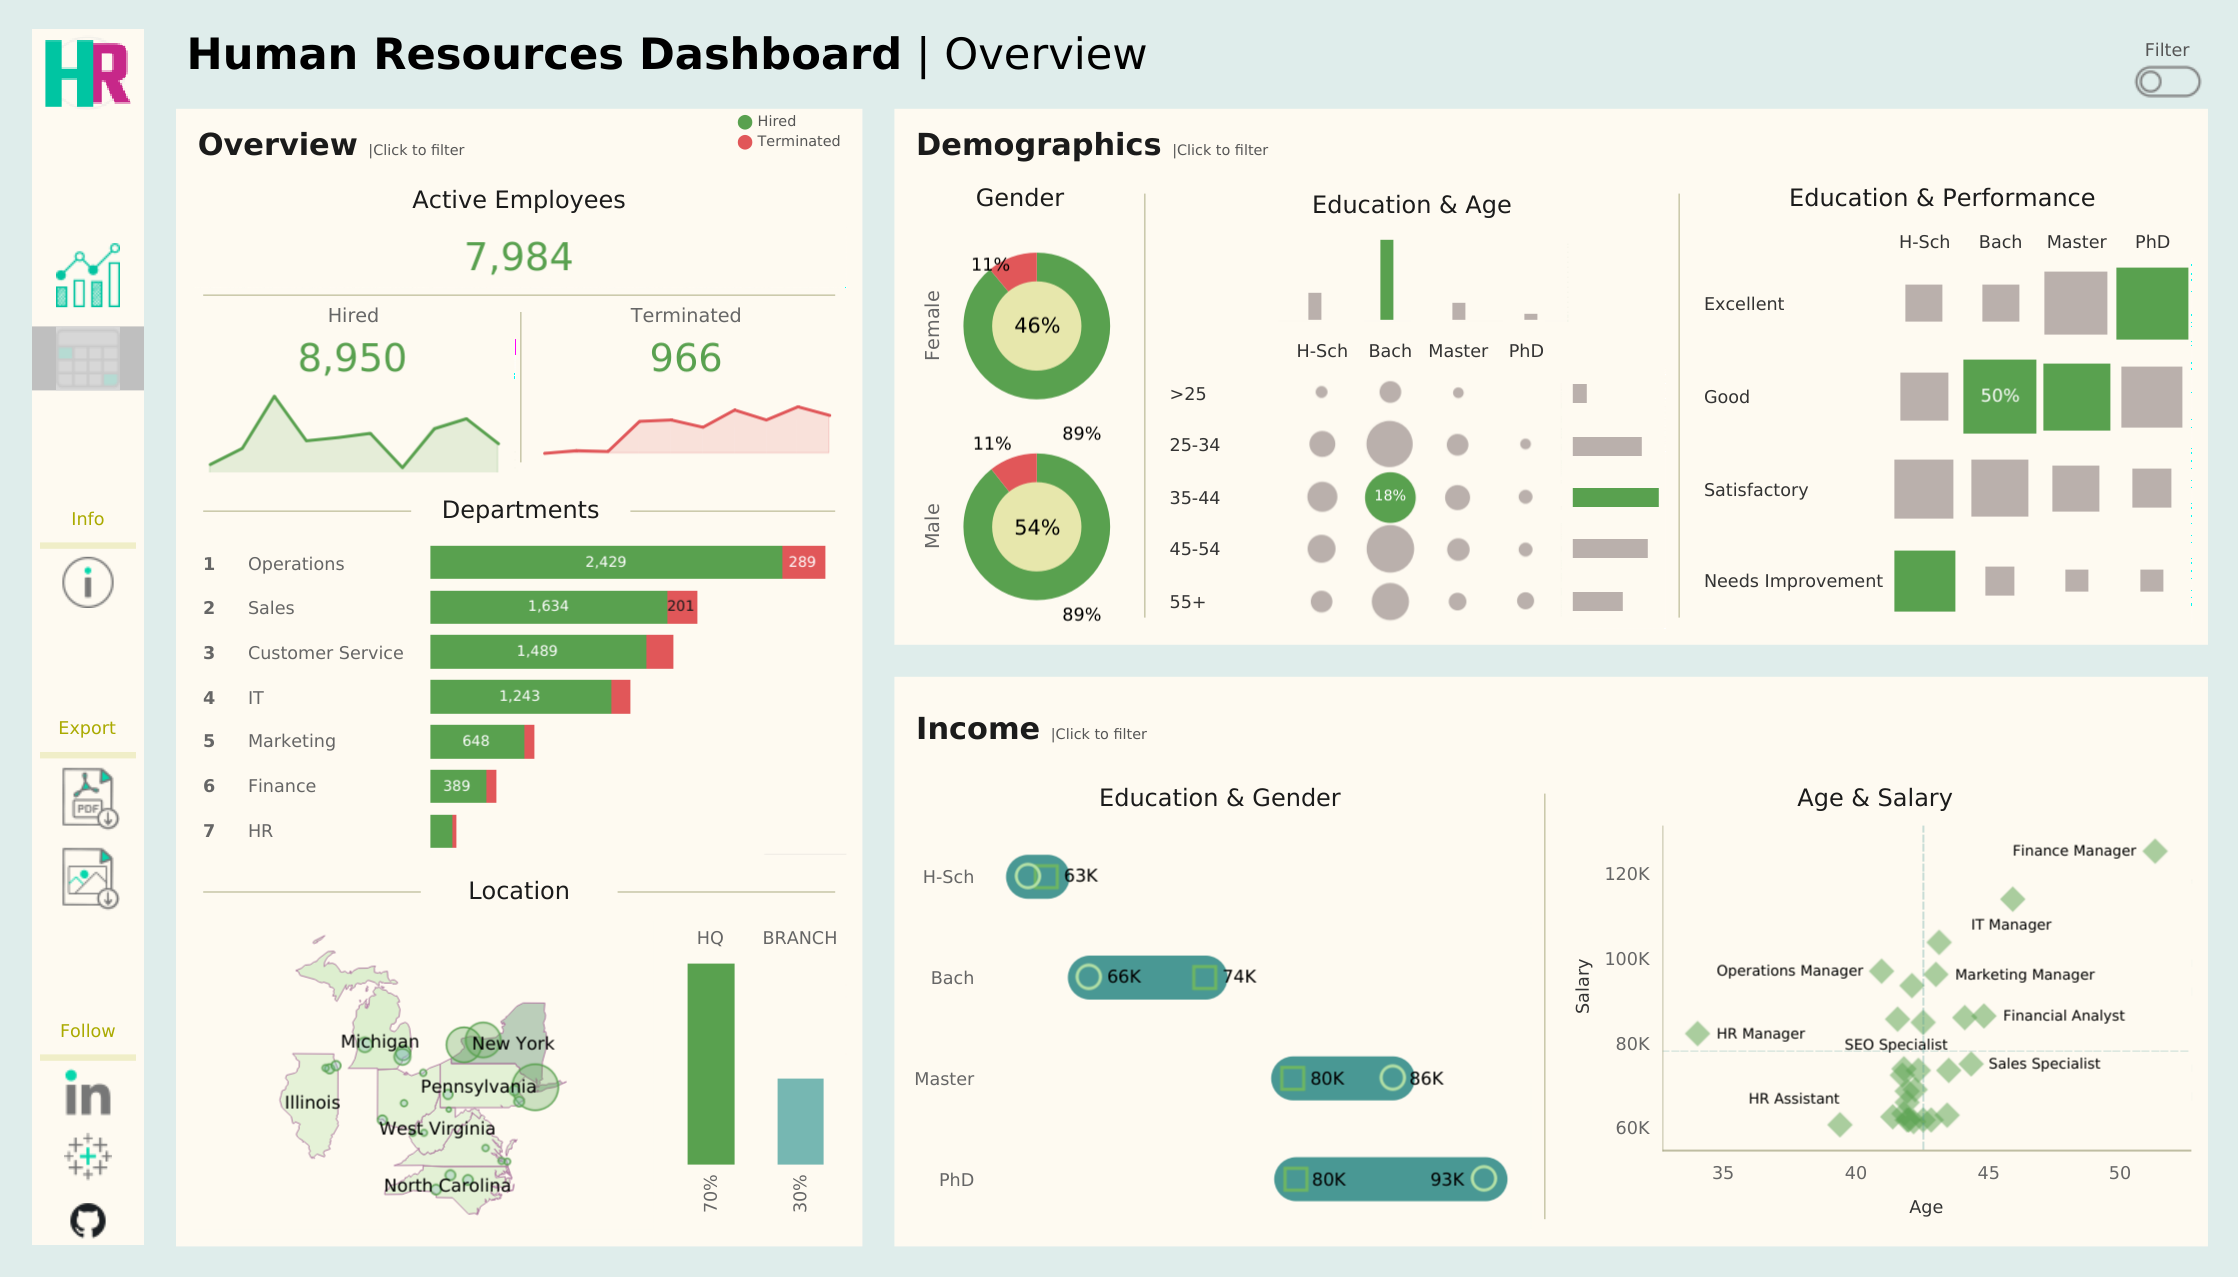

The page's visual inventory and layout, read from the dashboard file:
{"tool":"tableau","page":{"name":"HR | Summary","canvas":[1400,800],"ordinal":0},"visuals":[{"type":"blank","box":[90,0,1313,241]},{"type":"filter","title":"Gender vs Education Level","param":"[federated.1tz5cqf0n7bg761ccbsql13com06].[none:Gender:nk]","box":[718,9,149,52]},{"type":"filter","title":"Gender vs Education Level","param":"[federated.1tz5cqf0n7bg761ccbsql13com06].[none:Calculation_0848314004742148:nk]","box":[867,9,149,52]},{"type":"filter","title":"Gender vs Education Level","param":"[federated.1tz5cqf0n7bg761ccbsql13com06].[none:Calculation_1148479962927109:nk]","box":[1016,9,149,52]},{"type":"filter","title":"Gender vs Education Level","param":"[federated.1tz5cqf0n7bg761ccbsql13com06].[yr:Hiredate:ok]","box":[1165,9,148,52]},{"type":"image","param":"Image/Logo.png","box":[20,18,70,55]},{"type":"text","box":[1326,21,57,19]},{"type":"dashboard-object","box":[1333,30,44,42]},{"type":"text","box":[458,67,75,30]},{"type":"blank","box":[20,73,70,69.5]},{"type":"text","box":[117,75,415,31]},{"type":"text","box":[566,75,807,31]},{"type":"text","box":[117,106,415,32]},{"type":"text","box":[566,111,144,26]},{"type":"blank","box":[715,111,1,285.5]},{"type":"text","box":[721,111,323,33]},{"type":"blank","box":[1049,111,1,285.5]},{"type":"text","box":[1055,111,318,26]},{"type":"worksheet","title":"Gender","mark":"Pie","rows":["Gender"],"cols":["Calculation_0848313933910017","Calculation_0848313933910017"],"box":[566,137,144,259.5]},{"type":"worksheet","title":"Education vs Performance","mark":"Square","rows":["Performance Rating"],"cols":["Education Level"],"box":[1055,137,318,259.5]},{"type":"worksheet","title":"BAN Active","mark":"Text","box":[117,138,415,46]},{"type":"worksheet","title":"Education Levels","mark":"Bar","rows":["Calculation_1148479949914112"],"cols":["Education Level"],"box":[721,144,323,61]},{"type":"dashboard-object","box":[30,152.5,50,40]},{"type":"blank","box":[117,184,415,1]},{"type":"text","box":[117,185,208,22]},{"type":"blank","box":[325,185,1,114]},{"type":"text","box":[326,185,205.9,22]},{"type":"dashboard-object","box":[20,204.5,70,40]},{"type":"worksheet","title":"Age vs Education","mark":"Circle","rows":["Calculation_0848313936879619"],"cols":["Education Level"],"box":[721,205,258,191.5]},{"type":"worksheet","title":"Age Groups","mark":"Bar","rows":["Calculation_0848313936879619"],"cols":["Calculation_1148479949914112"],"box":[979,205,65,191.5]},{"type":"worksheet","title":"BAN Hired","mark":"Text","box":[117,207,208,32]},{"type":"worksheet","title":"BAN Terminated","mark":"Text","box":[326,207,205.9,32]},{"type":"worksheet","title":"Hired By Year","mark":"Automatic","rows":["Calculation_1148479949914112","Calculation_1148479949914112"],"cols":["Hiredate"],"box":[117,239,208,60]},{"type":"worksheet","title":"Terminated By Year","mark":"Automatic","rows":["Calculation_1148479950147585","Calculation_1148479950147585"],"cols":["Termdate"],"box":[326,239,205.9,60]},{"type":"text","box":[90,241,1313,263]},{"type":"blank","box":[20,244.5,70,69.5]},{"type":"blank","box":[127,304,130,30]},{"type":"text","box":[257,304,137,30]},{"type":"blank","box":[394,304,128,30]},{"type":"text","box":[20,314,70,20]},{"type":"blank","box":[20,334,70,14]},{"type":"worksheet","title":"Departments","mark":"Automatic","rows":["Calculation_1148479961632772","Department"],"cols":["Calculation_1148479949914112"],"box":[117,334,415,203]},{"type":"dashboard-object","box":[20,348,70,32]},{"type":"blank","box":[20,380,70,65]},{"type":"text","box":[566,430.5,807,51]},{"type":"text","box":[20,445,70,20]},{"type":"blank","box":[20,465,70,14]},{"type":"dashboard-object","box":[20,479,70,40]},{"type":"text","box":[566,486.5,394,26]},{"type":"blank","box":[965,486.5,1,285.5]},{"type":"text","box":[971,486.5,402,26]},{"type":"worksheet","title":"Gender vs Education Level","mark":"Square","rows":["Education Level"],"cols":["Salary","Salary"],"box":[566,512.5,394,259.5]},{"type":"worksheet","title":"Age vs Salary","mark":"Shape","rows":["Salary"],"cols":["Calculation_0848313936273410"],"box":[971,512.5,402,259.5]},{"type":"blank","box":[20,519,70,10]},{"type":"dashboard-object","box":[20,529,70,40]},{"type":"blank","box":[127,542,135.7,30]},{"type":"text","box":[262.7,542,123.7,30]},{"type":"blank","box":[386.3,542,135.7,30]},{"type":"blank","box":[20,569,70,65]},{"type":"worksheet","title":"Map States","mark":"Automatic","box":[117,572,295,200]},{"type":"worksheet","title":"Location","mark":"Automatic","rows":["Calculation_1148479949914112"],"cols":["Calculation_1148479962927109","Calculation1"],"box":[412,572,120,200]},{"type":"text","box":[20,634,70,20]},{"type":"blank","box":[20,654,70,14]},{"type":"image","param":"Image/contact-linkedin.png","box":[20,668,70,30]},{"type":"blank","box":[20,698,70,10]},{"type":"image","param":"Image/contact-public.png","box":[20,708,70,30]},{"type":"blank","box":[20,738,70,10]},{"type":"image","param":"Image/Octicons-mark-github.svg","box":[20,748,70,30]}]}

Visuals, with their boxes in screenshot pixels (x1, y1, x2, y2), scaled from the page's 1400x800 canvas onto the 2238x1278 screenshot:
blank: [144, 0, 2237, 385]
"Gender vs Education Level" filter: [1148, 14, 1386, 97]
"Gender vs Education Level" filter: [1386, 14, 1624, 97]
"Gender vs Education Level" filter: [1624, 14, 1862, 97]
"Gender vs Education Level" filter: [1862, 14, 2099, 97]
image: [32, 29, 144, 117]
text: [2120, 34, 2211, 64]
dashboard-object: [2131, 48, 2201, 115]
text: [732, 107, 852, 155]
blank: [32, 117, 144, 228]
text: [187, 120, 850, 169]
text: [905, 120, 2195, 169]
text: [187, 169, 850, 220]
text: [905, 177, 1135, 219]
blank: [1143, 177, 1145, 633]
text: [1153, 177, 1669, 230]
blank: [1677, 177, 1678, 633]
text: [1686, 177, 2195, 219]
"Gender" worksheet (Pie marks): [905, 219, 1135, 633]
"Education vs Performance" worksheet (Square marks): [1686, 219, 2195, 633]
"BAN Active" worksheet (Text marks): [187, 220, 850, 294]
"Education Levels" worksheet (Bar marks): [1153, 230, 1669, 327]
dashboard-object: [48, 244, 128, 308]
blank: [187, 294, 850, 296]
text: [187, 296, 520, 331]
blank: [520, 296, 521, 478]
text: [521, 296, 850, 331]
dashboard-object: [32, 327, 144, 391]
"Age vs Education" worksheet (Circle marks): [1153, 327, 1565, 633]
"Age Groups" worksheet (Bar marks): [1565, 327, 1669, 633]
"BAN Hired" worksheet (Text marks): [187, 331, 520, 382]
"BAN Terminated" worksheet (Text marks): [521, 331, 850, 382]
"Hired By Year" worksheet: [187, 382, 520, 478]
"Terminated By Year" worksheet: [521, 382, 850, 478]
text: [144, 385, 2237, 805]
blank: [32, 391, 144, 502]
blank: [203, 486, 411, 534]
text: [411, 486, 630, 534]
blank: [630, 486, 834, 534]
text: [32, 502, 144, 534]
blank: [32, 534, 144, 556]
"Departments" worksheet: [187, 534, 850, 858]
dashboard-object: [32, 556, 144, 607]
blank: [32, 607, 144, 711]
text: [905, 688, 2195, 769]
text: [32, 711, 144, 743]
blank: [32, 743, 144, 765]
dashboard-object: [32, 765, 144, 829]
text: [905, 777, 1535, 819]
blank: [1543, 777, 1544, 1233]
text: [1552, 777, 2195, 819]
"Gender vs Education Level" worksheet (Square marks): [905, 819, 1535, 1233]
"Age vs Salary" worksheet (Shape marks): [1552, 819, 2195, 1233]
blank: [32, 829, 144, 845]
dashboard-object: [32, 845, 144, 909]
blank: [203, 866, 420, 914]
text: [420, 866, 618, 914]
blank: [618, 866, 834, 914]
blank: [32, 909, 144, 1013]
"Map States" worksheet: [187, 914, 659, 1233]
"Location" worksheet: [659, 914, 850, 1233]
text: [32, 1013, 144, 1045]
blank: [32, 1045, 144, 1067]
image: [32, 1067, 144, 1115]
blank: [32, 1115, 144, 1131]
image: [32, 1131, 144, 1179]
blank: [32, 1179, 144, 1195]
image: [32, 1195, 144, 1243]
